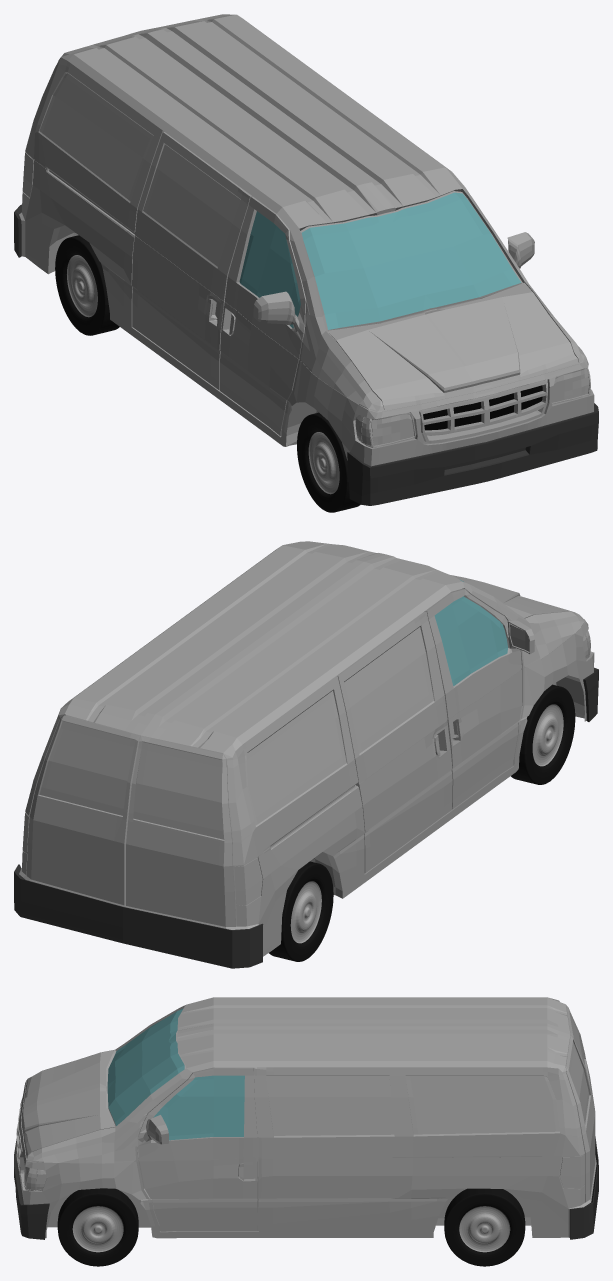
File: camioneta_Low.obj
3 renders of one model, top to bottom at view 1: azimuth 30°, elevation 25°; view 2: azimuth 150°, elevation 25°; view 3: azimuth 270°, elevation 25°, orthographic. The views are drawn at different scales.
Parts seen in each view (by area): view 1: Camioneta.001_Circle.000, Camioneta.008_Circle.012, Camioneta.012_Circle.016, Camioneta.011_Circle.015, Camioneta.013_Circle.017, Camioneta.004_Circle.004, Camioneta.000_Circle.008, Camioneta.002_Circle.007, Camioneta.007_Circle.019, Camioneta.014_Circle.018; view 2: Camioneta.001_Circle.000, Camioneta.012_Circle.016, Camioneta.008_Circle.012, Camioneta.004_Circle.004, Camioneta.013_Circle.017, Camioneta.002_Circle.007, Camioneta.014_Circle.018, Camioneta.009_Circle.013; view 3: Camioneta.001_Circle.000, Camioneta.008_Circle.012, Camioneta.010_Circle.001, Camioneta.016_Circle.003, Camioneta.012_Circle.016, Camioneta.017_Circle.005, Camioneta.015_Circle.002, Camioneta.009_Circle.013.
Boxes of the visible parts, box(x1,y1,x2,y2) form: Camioneta.001_Circle.000: box(19, 14, 594, 466); Camioneta.008_Circle.012: box(239, 192, 521, 329); Camioneta.012_Circle.016: box(14, 204, 598, 505); Camioneta.011_Circle.015: box(419, 380, 547, 443); Camioneta.013_Circle.017: box(55, 235, 119, 335); Camioneta.004_Circle.004: box(297, 412, 360, 512); Camioneta.000_Circle.008: box(371, 368, 589, 445); Camioneta.002_Circle.007: box(308, 432, 339, 494); Camioneta.007_Circle.019: box(423, 385, 542, 430); Camioneta.014_Circle.018: box(67, 255, 97, 317); Camioneta.001_Circle.000: box(19, 541, 594, 956); Camioneta.012_Circle.016: box(14, 667, 598, 968); Camioneta.008_Circle.012: box(434, 580, 508, 685); Camioneta.004_Circle.004: box(511, 684, 575, 784); Camioneta.013_Circle.017: box(269, 861, 333, 961); Camioneta.002_Circle.007: box(532, 704, 563, 766); Camioneta.014_Circle.018: box(290, 881, 321, 943); Camioneta.009_Circle.013: box(22, 812, 262, 904); Camioneta.001_Circle.000: box(19, 997, 596, 1238); Camioneta.008_Circle.012: box(107, 1008, 244, 1140); Camioneta.010_Circle.001: box(444, 1188, 525, 1266); Camioneta.016_Circle.003: box(57, 1188, 138, 1266); Camioneta.012_Circle.016: box(14, 1136, 598, 1239); Camioneta.017_Circle.005: box(72, 1206, 123, 1252); Camioneta.015_Circle.002: box(459, 1206, 510, 1252); Camioneta.009_Circle.013: box(560, 1154, 584, 1188).
Size of the model in its own units: 4.35 by 3.69 by 9.97.
